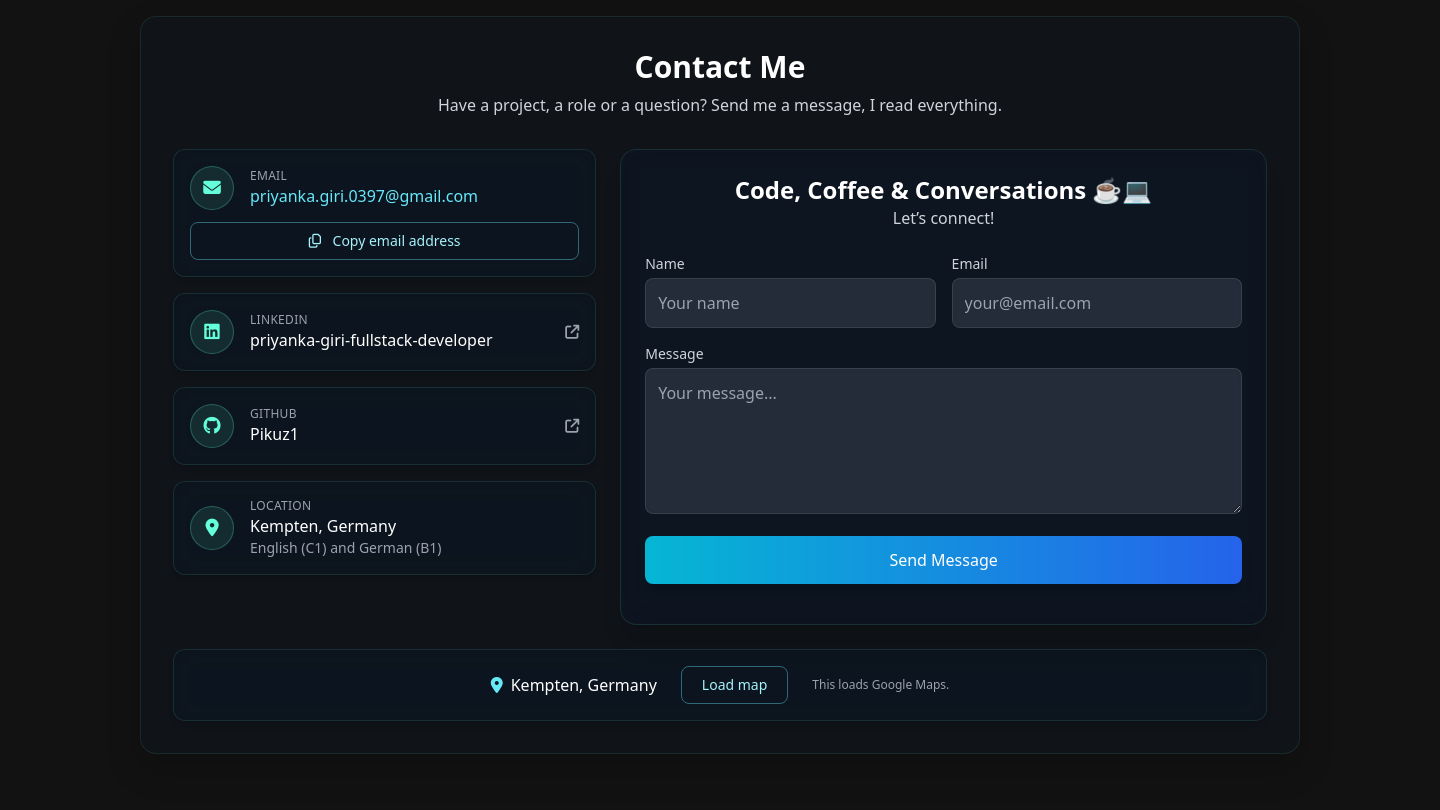
ContactComponent › copy email › says so when the browser refuses to copy
Click the button "Copy email address": (385, 241) x1=190 y1=222 x2=579 y2=260
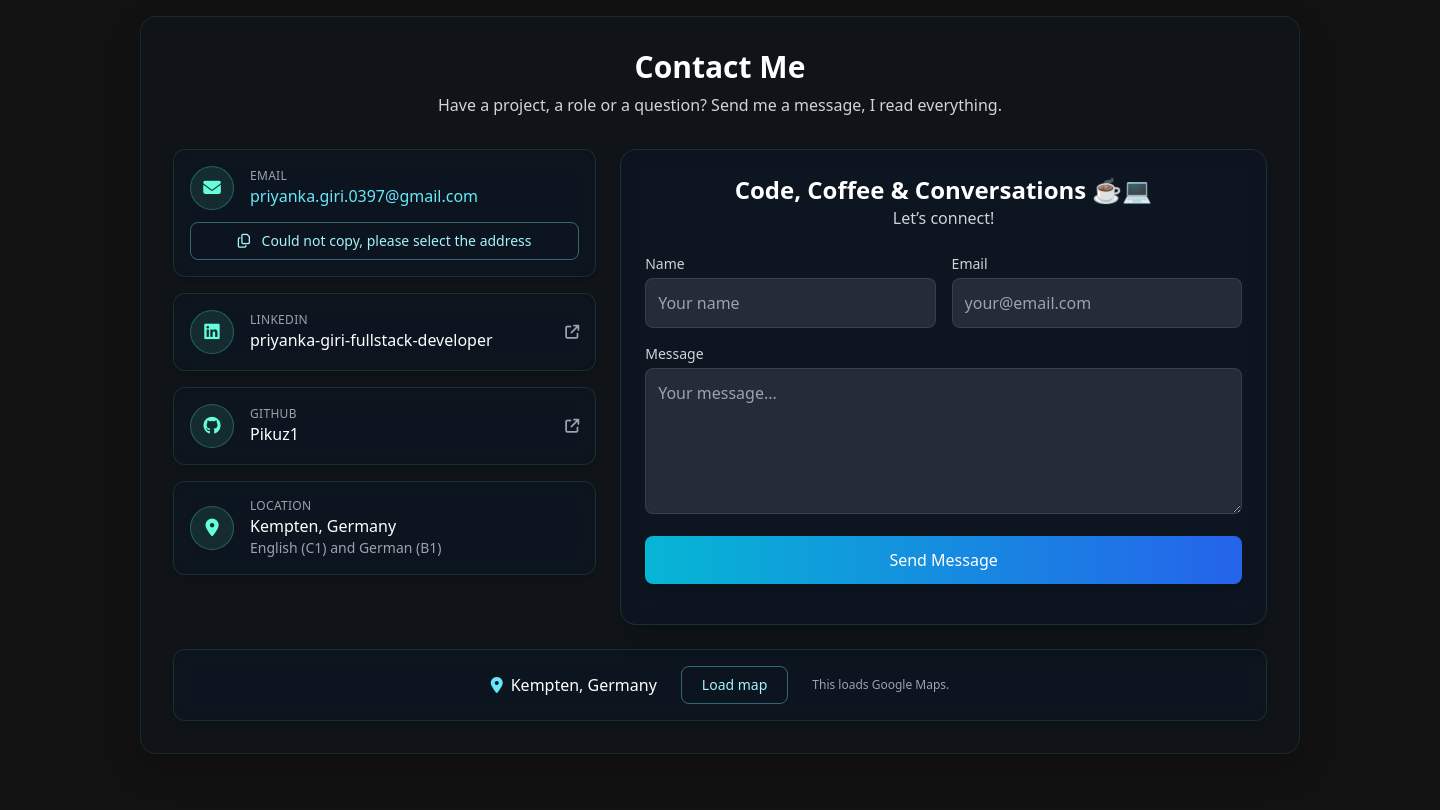
Expected: the button "Could not copy, please select the address" is shown, x1=190 y1=222 x2=579 y2=260
